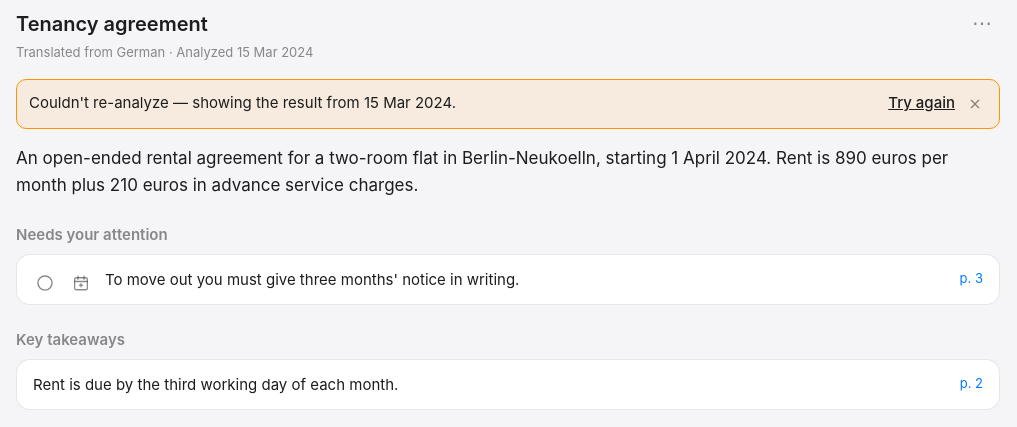
ExtractionPanel › dismisses the failure banner while keeping the stored content
Click the button named "Dismiss warning" at {"x": 975, "y": 104}, box [963,92,987,116]
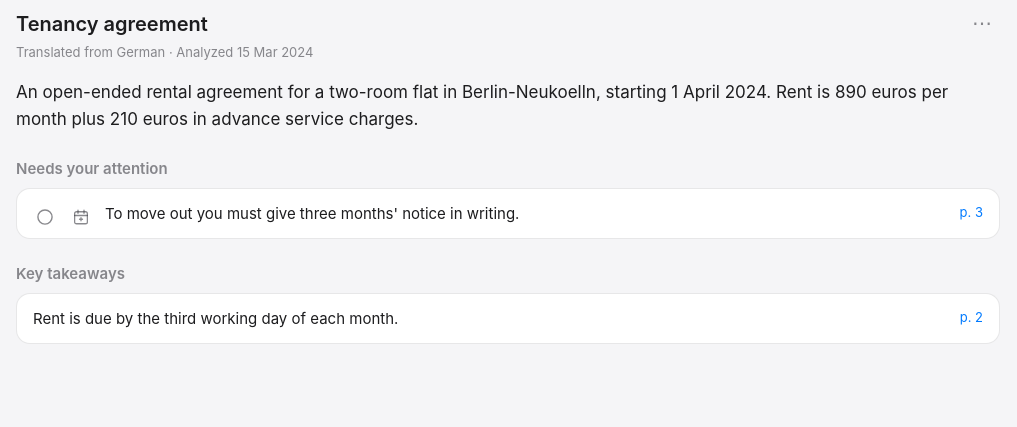
Check: the text "An open-ended rental agreement for a two-room flat in Berlin-Neukoelln, starting 1 April 2024. Rent is 890 euros per month plus 210 euros in advance service cha" is shown, box [16,82,948,129]
Check: the text "Couldn't re-analyze" is gone
